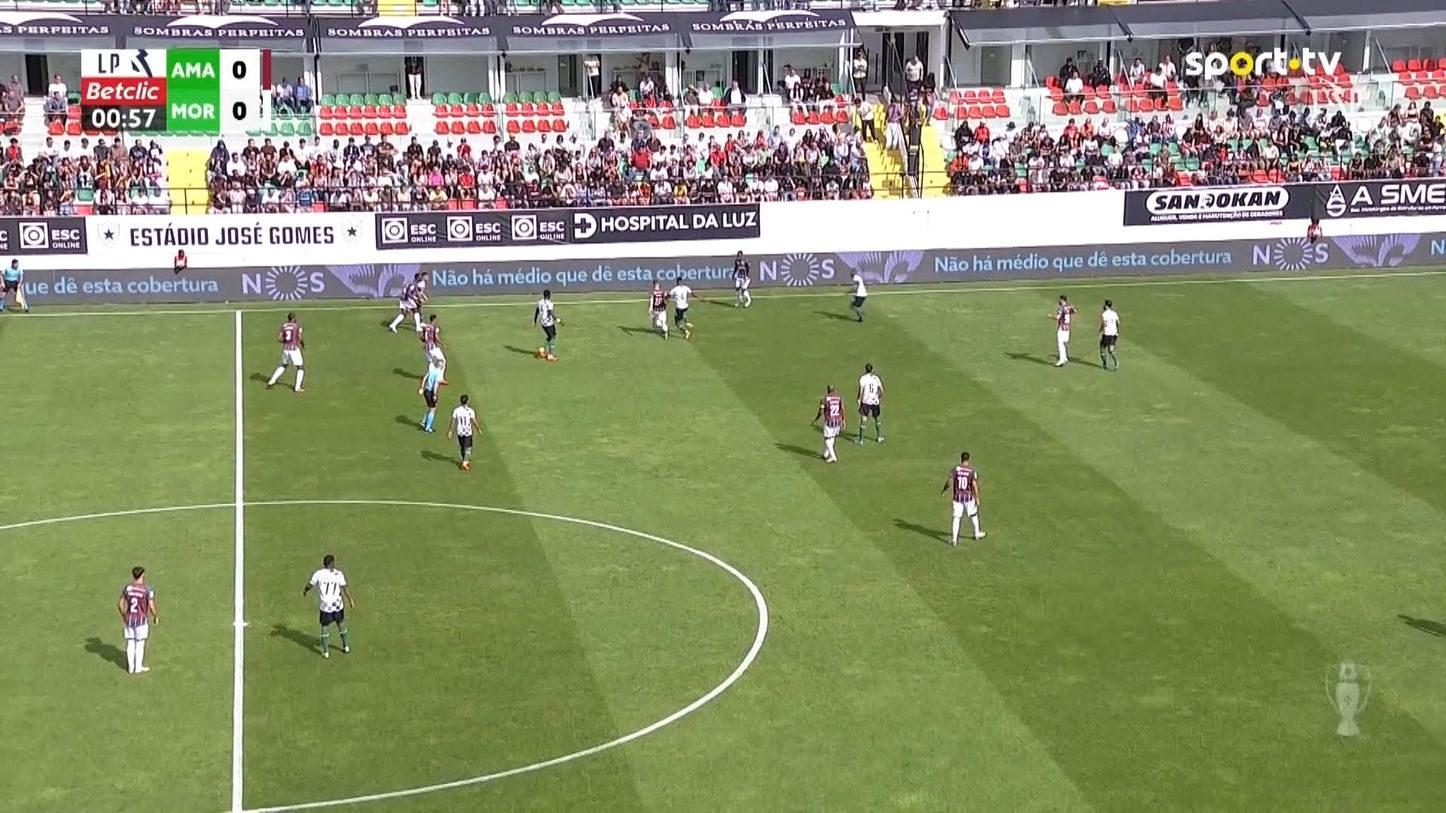ball: (653, 318, 663, 329)
player: (301, 553, 354, 658), (117, 565, 159, 673), (940, 450, 986, 546), (264, 312, 307, 392), (810, 383, 847, 463), (446, 393, 481, 470), (853, 362, 885, 445), (387, 270, 429, 333), (531, 288, 563, 361), (416, 312, 448, 385), (1047, 294, 1076, 366), (667, 275, 697, 340), (1097, 298, 1120, 370), (646, 279, 669, 340), (731, 249, 752, 308), (416, 312, 441, 358), (847, 268, 867, 321)
referee: (416, 359, 448, 433), (0, 257, 29, 312)
